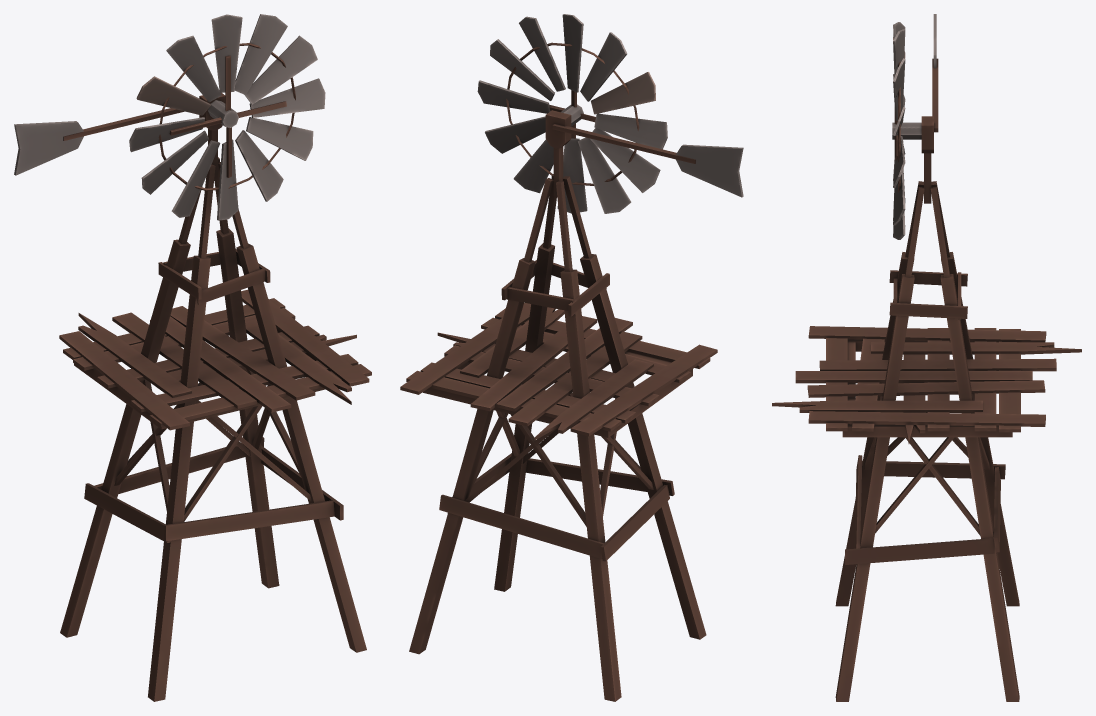
File: Windmill_(Animated).fbx
3 renders of one model, left to right at view 1: azimuth 30°, elevation 25°; view 2: azimuth 150°, elevation 25°; view 3: azimuth 270°, elevation 25°, orthographic. The views are drawn at different scales.
Visible parts, largest first — view 1: Box052, Plane012; view 2: Box052, Plane012; view 3: Box052, Plane012.
Boxes of the visible parts, x1,y1,x2,y2 form: Box052: (14,93,371,701); Plane012: (129,14,325,220); Box052: (400,110,743,701); Plane012: (477,14,667,213); Box052: (772,14,1081,701); Plane012: (892,22,921,239).
Bounding box in the file's own units: 166 × 140 × 308.
Materials: 1 (1 with a texture image).
